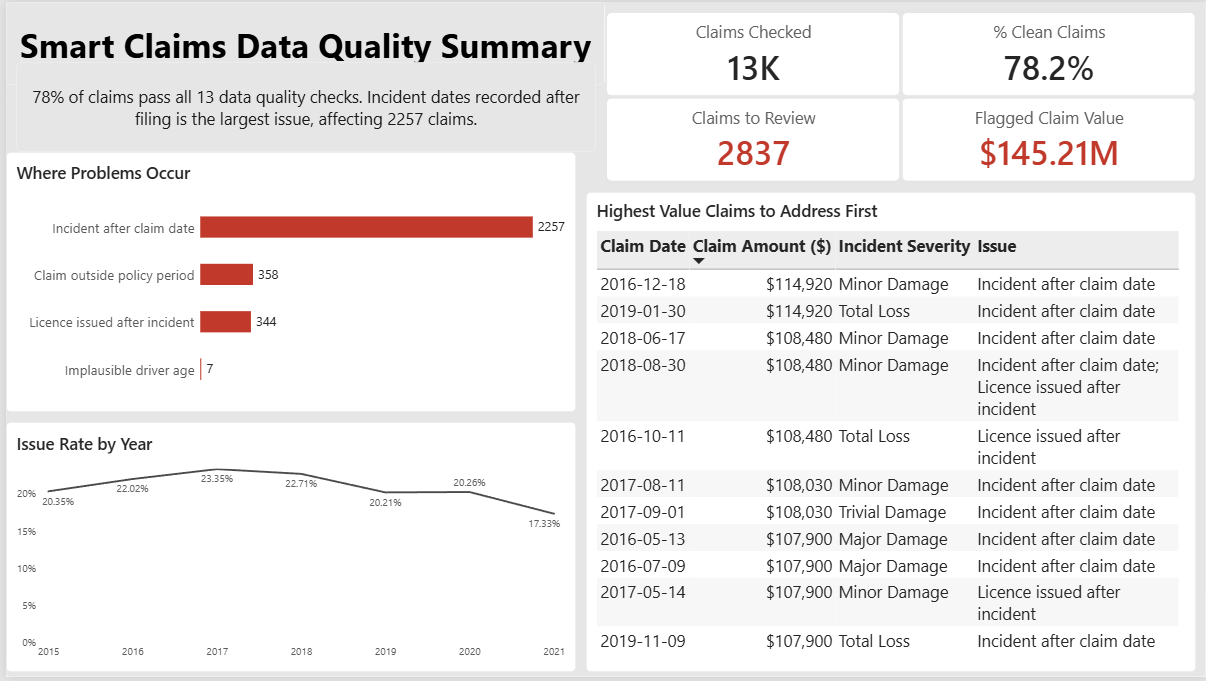

The dashboard page shown, as its layout file describes it:
{"tool":"powerbi","page":{"name":"Page 1","canvas":[1920,1080],"ordinal":0},"visuals":[{"type":"shape","box":[0,-8,1920,1088],"z":500},{"type":"cardVisual","fields":{"Data":["dq_claim_status.Claims Checked","dq_scorecard.% Clean Claims","dq_claim_status.Claims to Review","dq_claim_status.Flagged Claim Value"]},"box":[960,16,944,272],"z":1000},{"type":"shape","box":[0,0,959.2,133.8],"z":2000},{"type":"shape","box":[16,96,928,144],"z":3000},{"type":"clusteredBarChart","title":"Where Problems Occur","fields":{"Category":["dq_scorecard.rule_label"],"Y":["Sum(dq_scorecard.records_failed)"]},"box":[0,240,912,416],"z":4000},{"type":"lineChart","fields":{"Category":["dq_claim_status.claim_month.Variation.Date Hierarchy.Year","dq_claim_status.claim_month.Variation.Date Hierarchy.Quarter","dq_claim_status.claim_month.Variation.Date Hierarchy.Month","dq_claim_status.claim_month.Variation.Date Hierarchy.Day"],"Y":["dq_claim_status.Issue Rate"]},"box":[0,672,912,400],"z":5000},{"type":"tableEx","title":"Highest Value Claims to Address First","fields":{"Values":["dq_claim_status.claim_date","Sum(dq_claim_status.claim_total)","dq_claim_status.incident_severity","dq_claim_status.failed_rules"]},"box":[928,304,976,768],"z":6000}]}

Visuals, with their boxes in screenshot pixels (x1, y1, x2, y2), scaled from the page's 1920x1080 canvas onto the 1206x681 screenshot:
shape: x1=0, y1=0, x2=1205, y2=680
cardVisual - dq_claim_status.Claims Checked x dq_scorecard.% Clean Claims: x1=603, y1=10, x2=1196, y2=182
shape: x1=0, y1=0, x2=602, y2=84
shape: x1=10, y1=61, x2=593, y2=151
"Where Problems Occur" clusteredBarChart: x1=0, y1=151, x2=573, y2=414
lineChart - dq_claim_status.claim_month.Variation.Date Hierarchy.Year x dq_claim_status.claim_month.Variation.Date Hierarchy.Quarter: x1=0, y1=424, x2=573, y2=676
"Highest Value Claims to Address First" tableEx: x1=583, y1=192, x2=1196, y2=676
